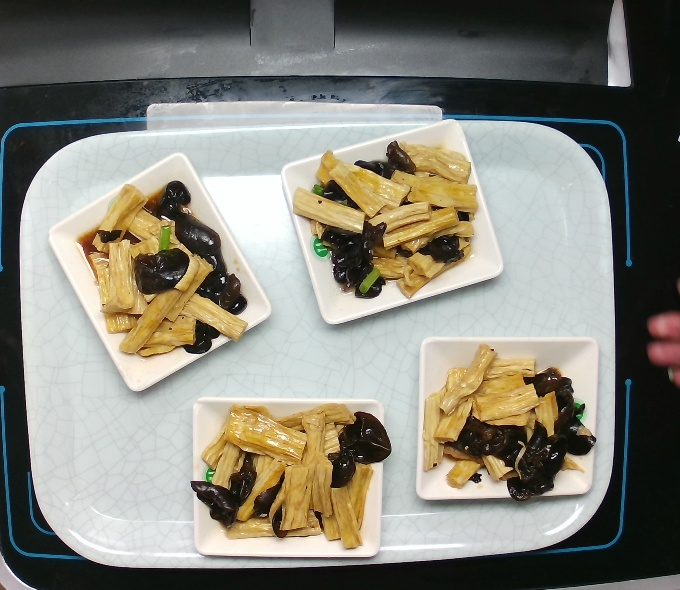wcq-MuErFuZhu: (77, 172, 253, 364), (284, 136, 484, 304), (183, 395, 394, 554), (414, 337, 600, 513)
